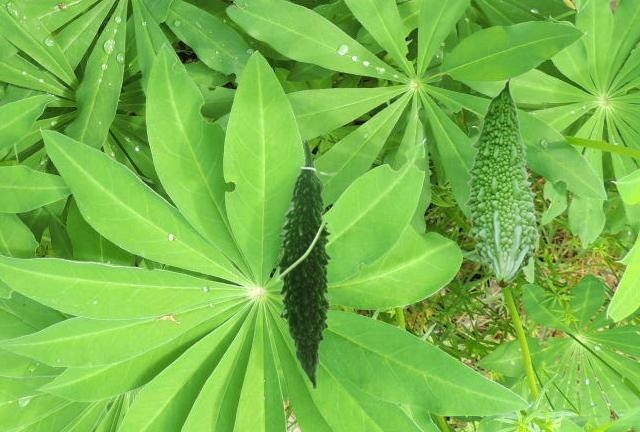ampalaya: (272, 137, 339, 390), (463, 76, 541, 290)
